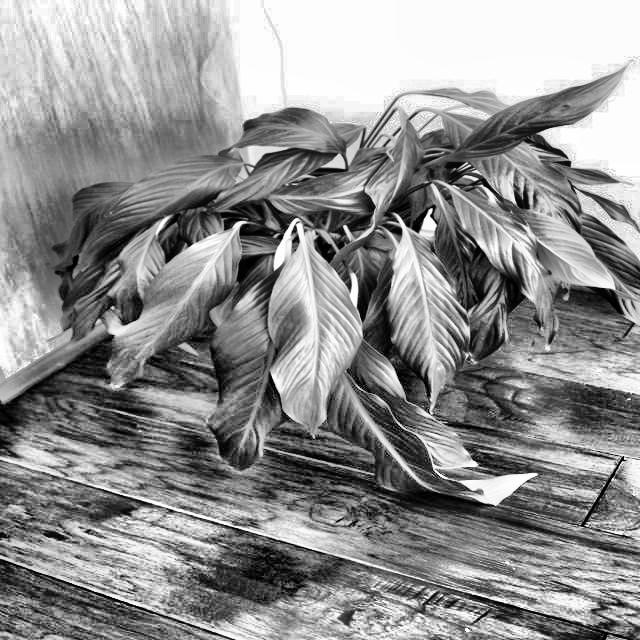plants: (66, 107, 624, 487)
